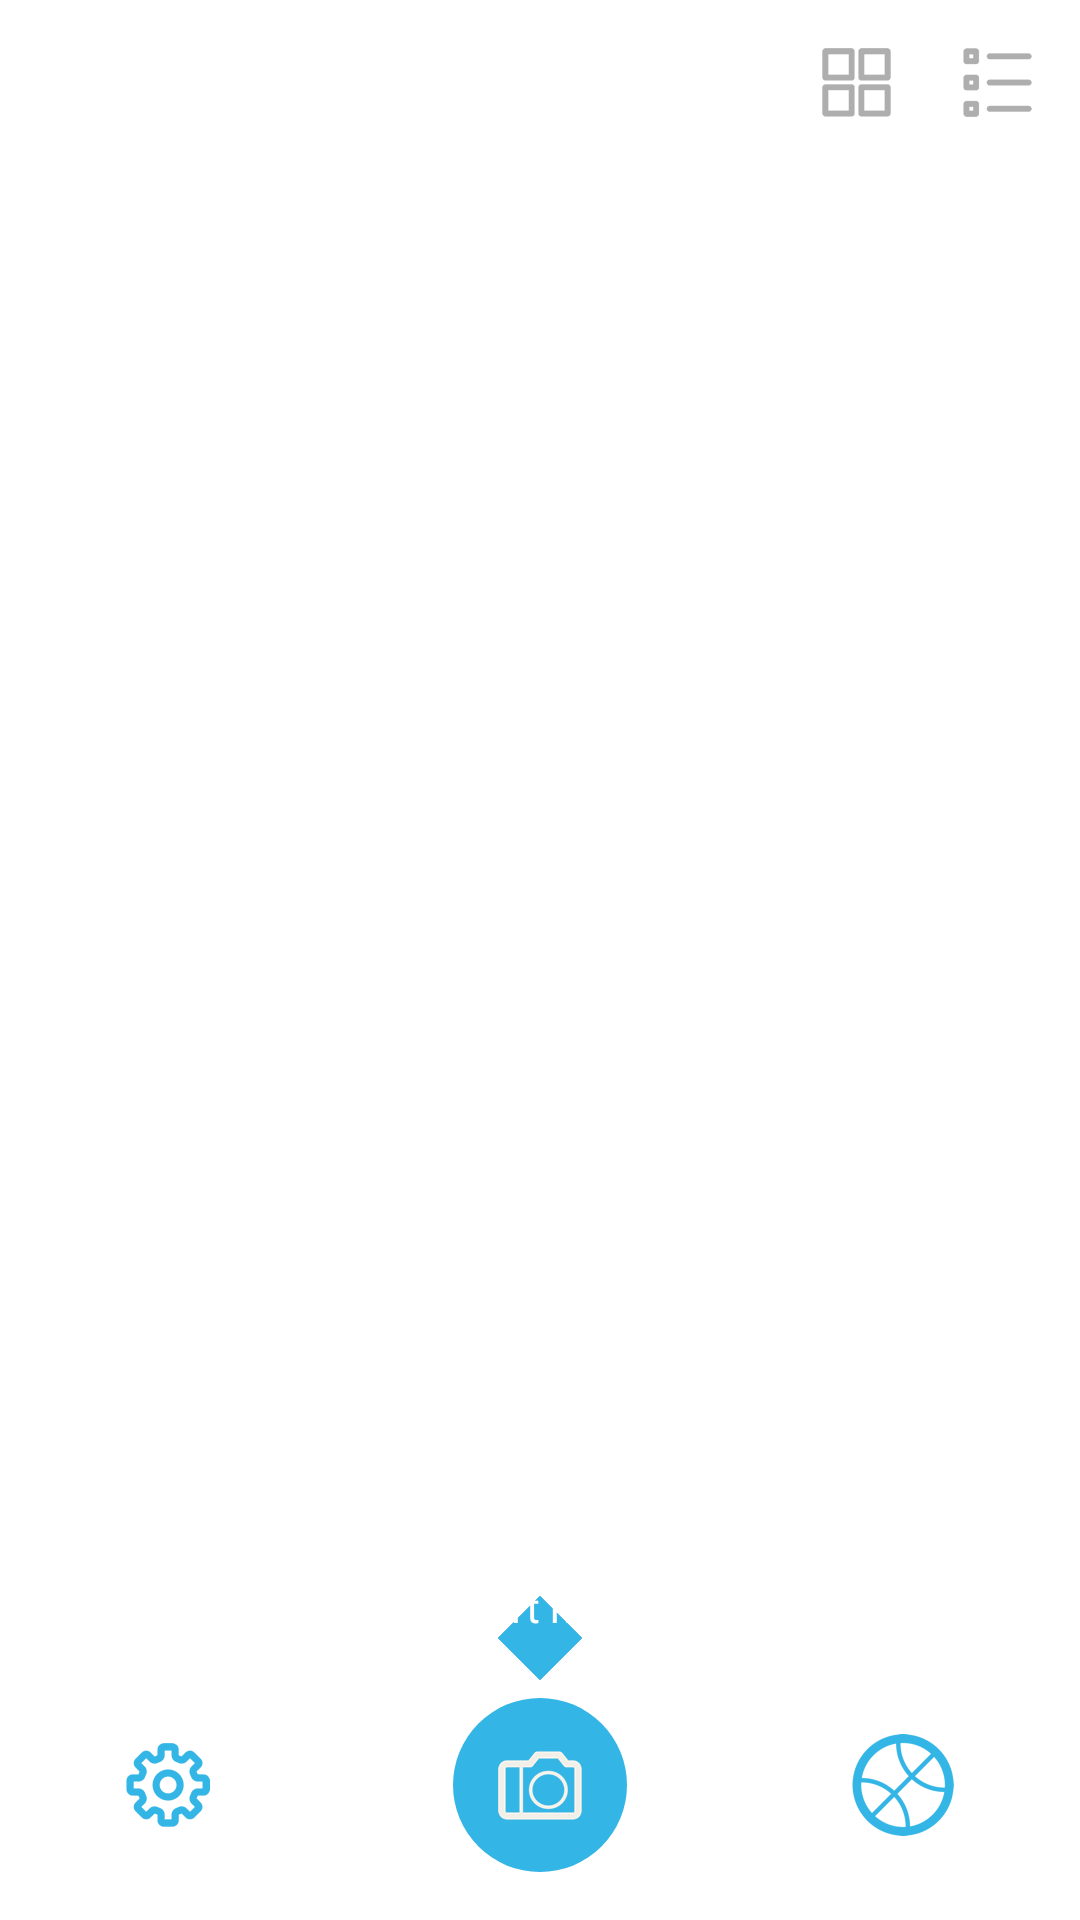

Where icons sit on this 1080px×1920px app screen, as bbox(x1, y1, x2, y2):
camera: bbox(453, 1698, 627, 1872)
grid: bbox(822, 48, 891, 117)
list: bbox(963, 48, 1032, 117)
settings: bbox(126, 1743, 210, 1827)
